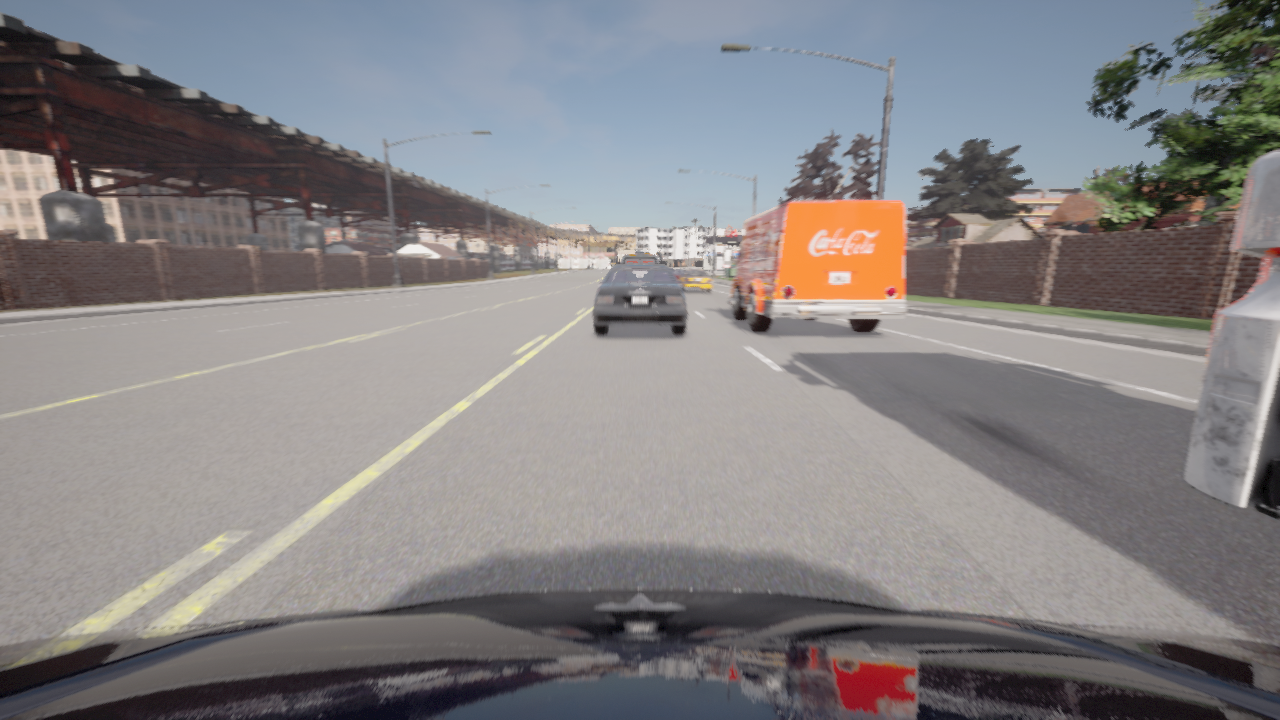cyclist: (0, 588, 1279, 719), (1183, 149, 1279, 518), (724, 201, 906, 332), (593, 264, 687, 333), (678, 267, 711, 292), (621, 255, 658, 263), (671, 270, 684, 280), (669, 268, 672, 270)
